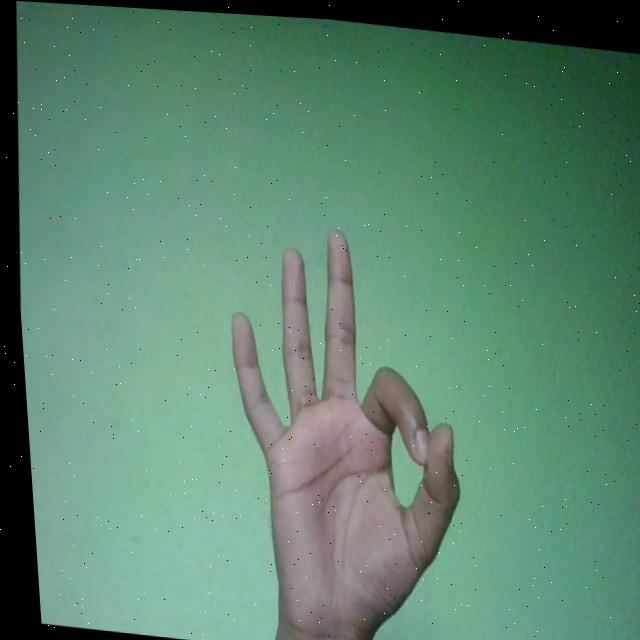Ok: (203, 213, 478, 640)
